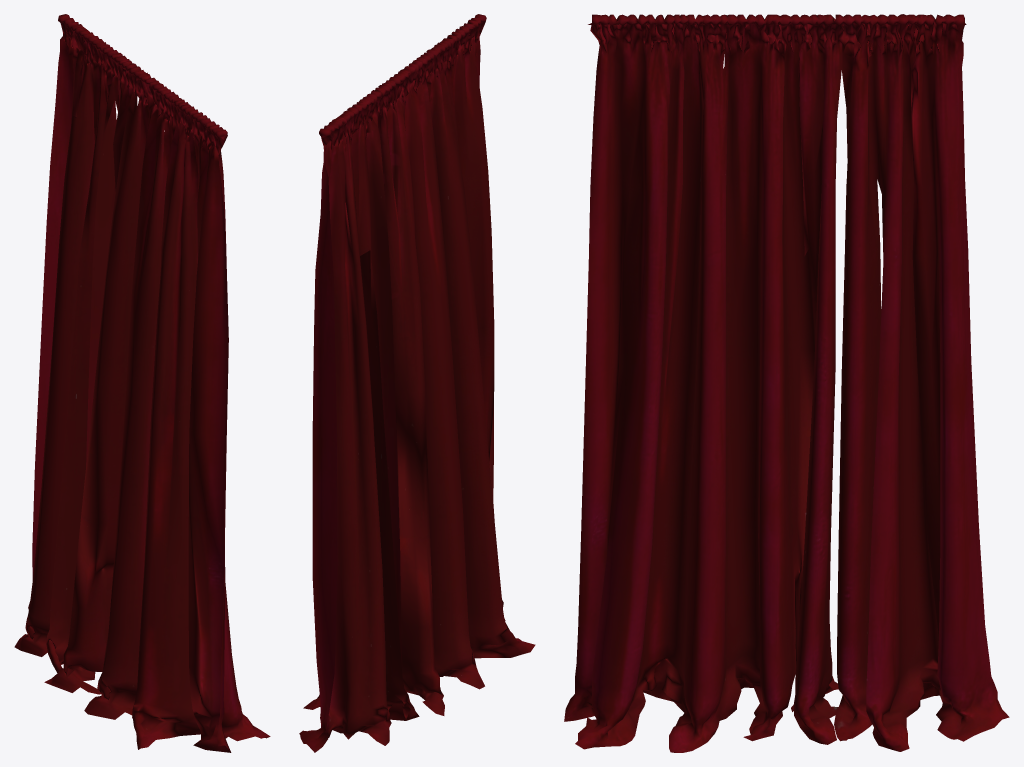
3 views of the same model, side by side, from view 1: azimuth 30°, elevation 25°; view 2: azimuth 150°, elevation 25°; view 3: azimuth 270°, elevation 25° (orthographic). The views are drawn at different scales.
Parts seen in each view (by area): view 1: tripo_node_5c8ba505-9e50-4b4e-9ac9-41b64ff50f96; view 2: tripo_node_5c8ba505-9e50-4b4e-9ac9-41b64ff50f96; view 3: tripo_node_5c8ba505-9e50-4b4e-9ac9-41b64ff50f96.
Boxes of the visible parts, x1=… form: tripo_node_5c8ba505-9e50-4b4e-9ac9-41b64ff50f96: x1=14, y1=14, x2=270, y2=752; tripo_node_5c8ba505-9e50-4b4e-9ac9-41b64ff50f96: x1=299, y1=14, x2=535, y2=752; tripo_node_5c8ba505-9e50-4b4e-9ac9-41b64ff50f96: x1=564, y1=14, x2=1009, y2=752.
Bounding box in the file's own units: 0.1934 × 0.998 × 0.5645.
Materials: 1 (1 with a texture image).
